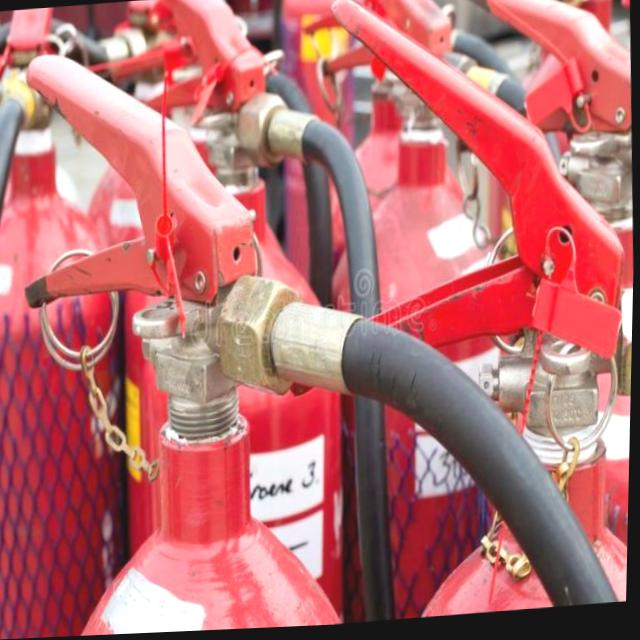FireExtinguisher: (0, 14, 639, 640), (304, 0, 640, 628), (438, 0, 640, 618), (0, 2, 141, 640)
